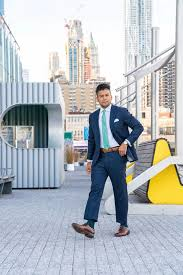F_M_suit jacket: (86, 104, 147, 167)
F_belt: (93, 144, 129, 156)
F_dress pants: (81, 152, 134, 227)
